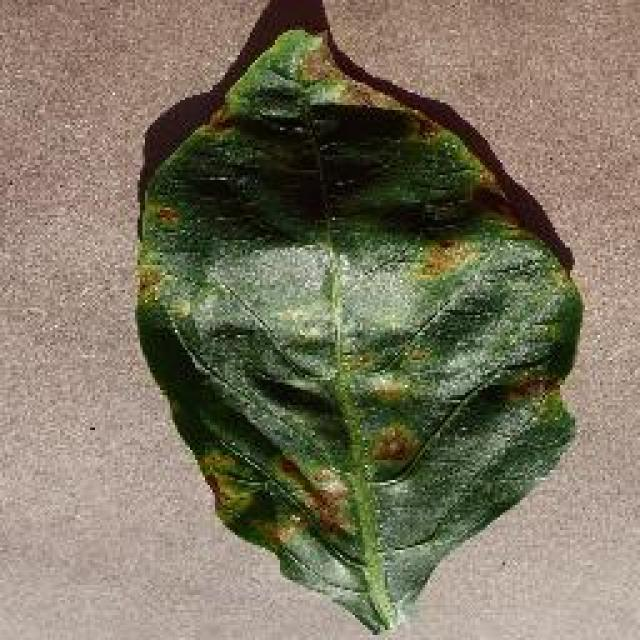Chilli_Bacterial_Spot: (130, 25, 585, 635), (272, 450, 358, 542), (352, 410, 428, 482), (410, 232, 478, 282), (365, 420, 417, 468), (500, 370, 562, 405), (360, 370, 412, 408), (305, 462, 350, 502), (333, 342, 375, 378), (133, 262, 165, 302), (163, 292, 195, 322), (400, 340, 432, 368), (152, 200, 180, 228)
